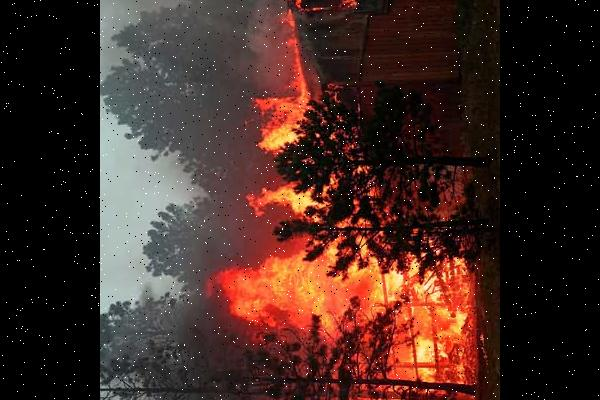fire: (243, 74, 490, 400)
